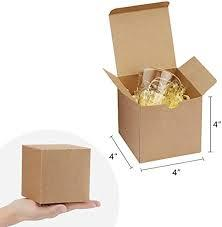cube: (22, 144, 91, 206)
